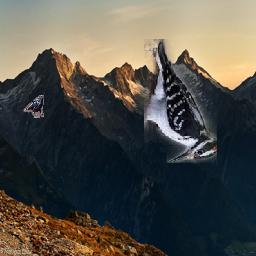Crow: (24, 96, 44, 119)
Woodpecker: (145, 39, 218, 163)
